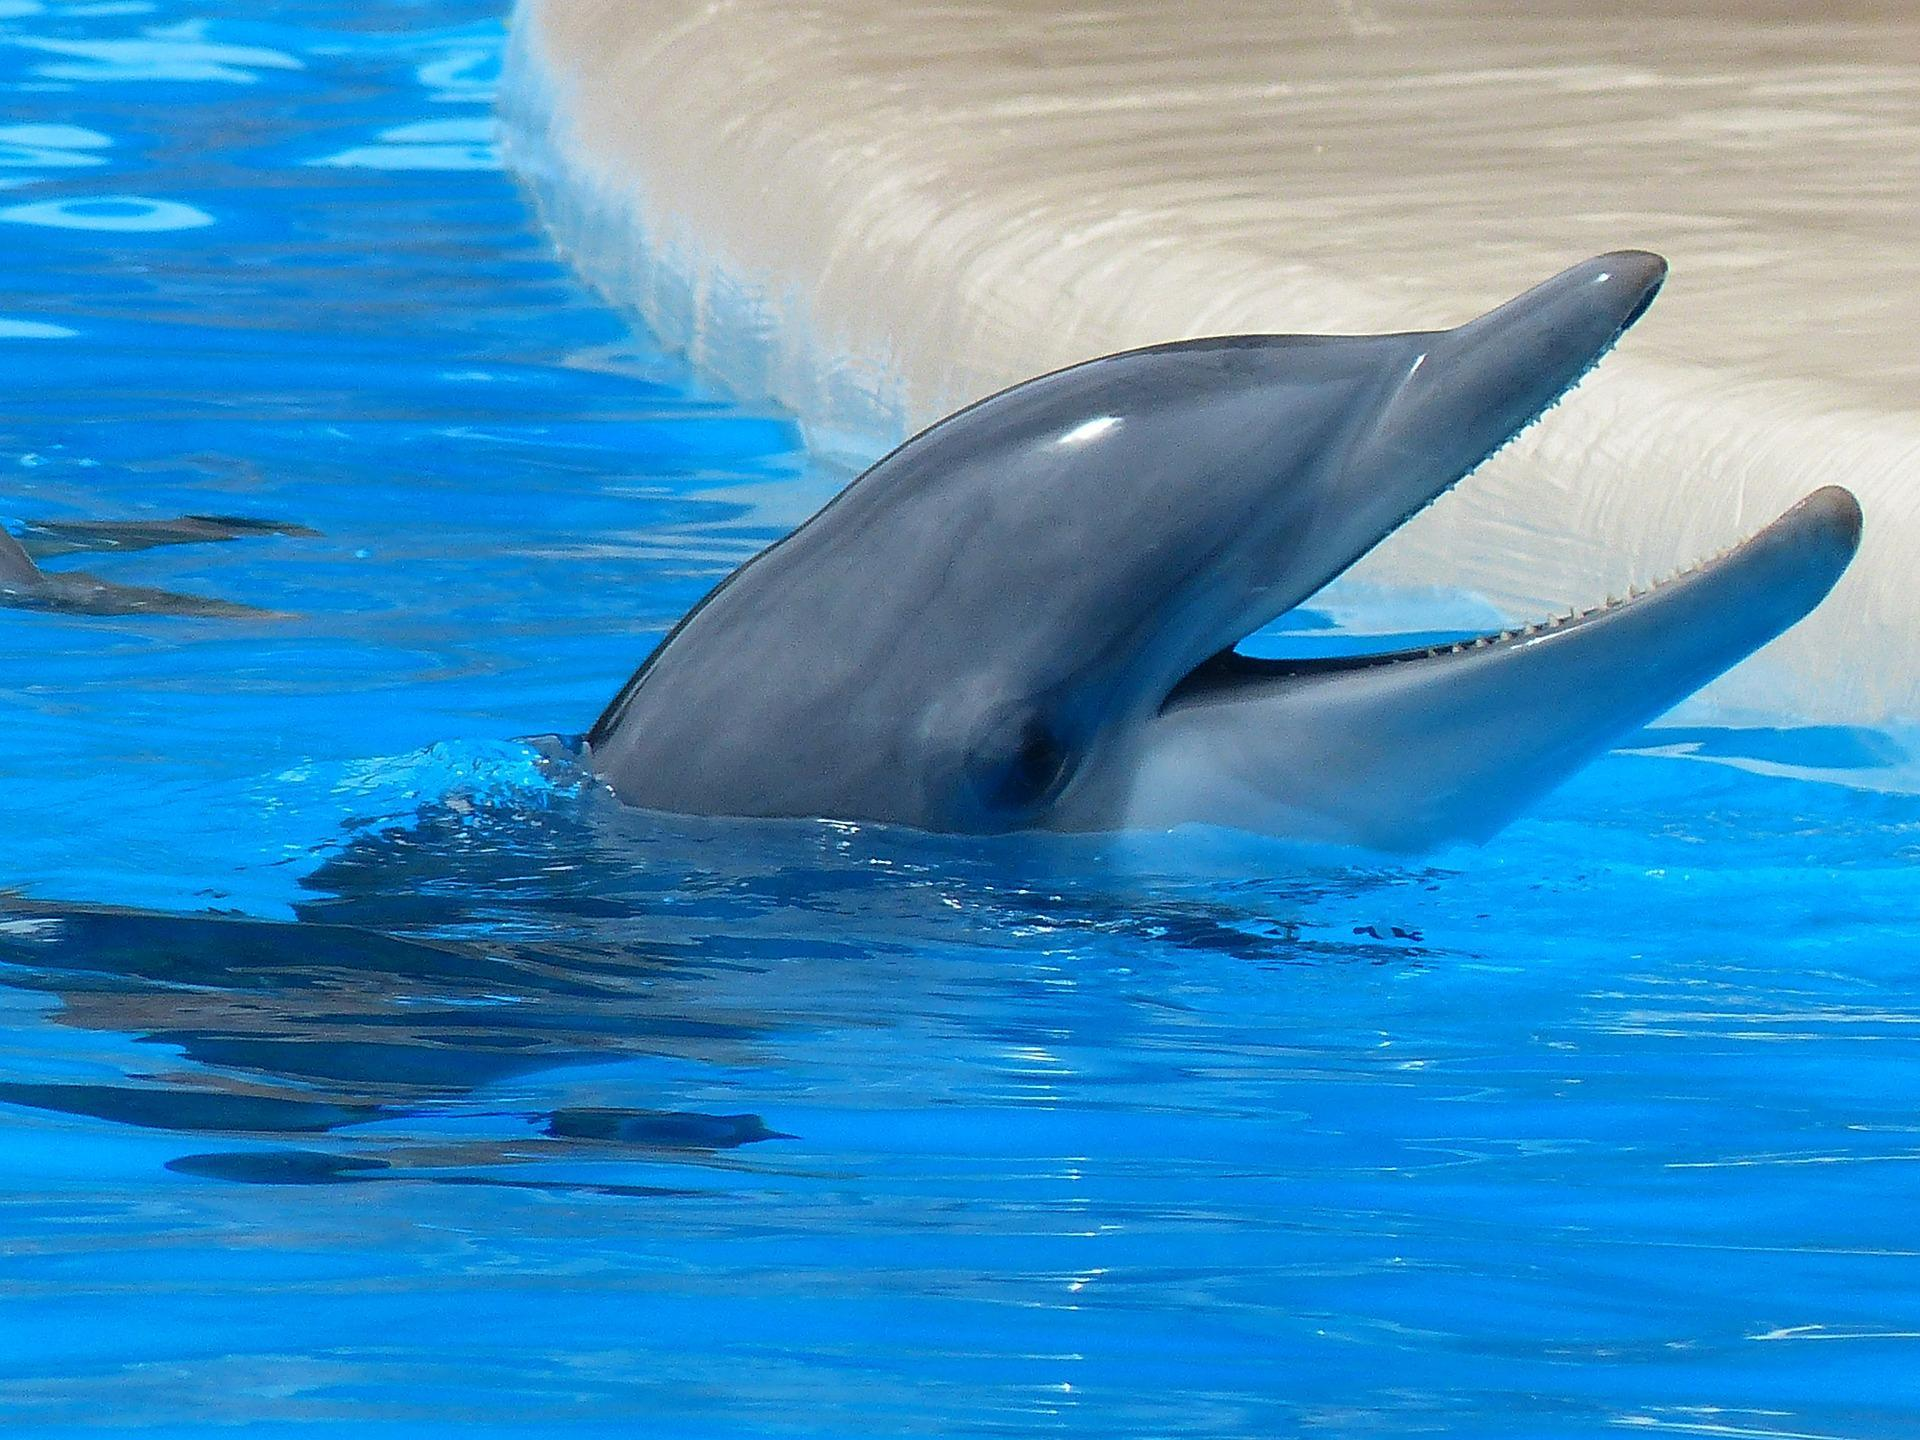fish: (8, 247, 1866, 1184)
